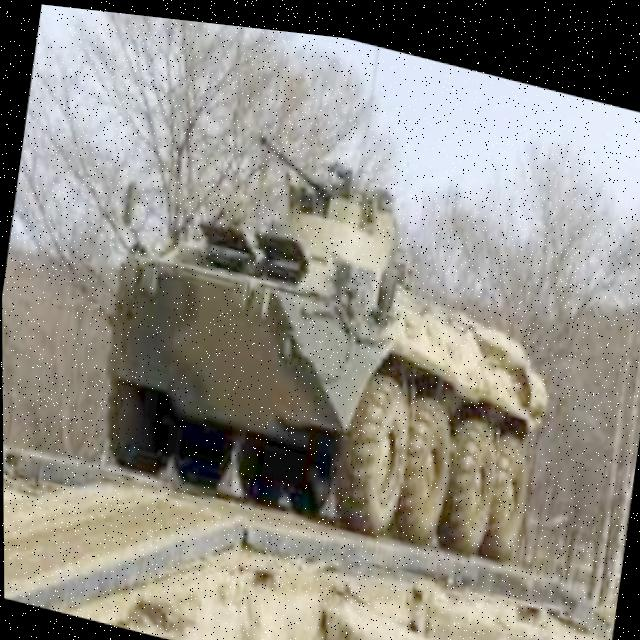MIL_APC: (79, 101, 597, 600)
